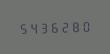eight: (72, 19, 82, 33)
five: (17, 21, 27, 34)
four: (28, 20, 38, 34)
six: (50, 20, 60, 33)
three: (39, 20, 49, 34)
two: (61, 19, 71, 33)
zero: (83, 18, 93, 32)
